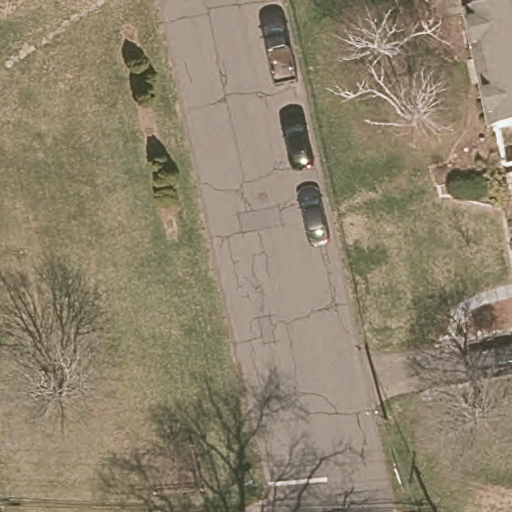DT: (364, 402, 394, 430)
